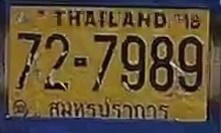2: (43, 32, 68, 87)
7: (92, 34, 116, 91), (17, 32, 40, 88)
8: (149, 35, 173, 91)
9: (119, 34, 144, 89), (178, 36, 202, 92)
SPK: (44, 94, 171, 125)
